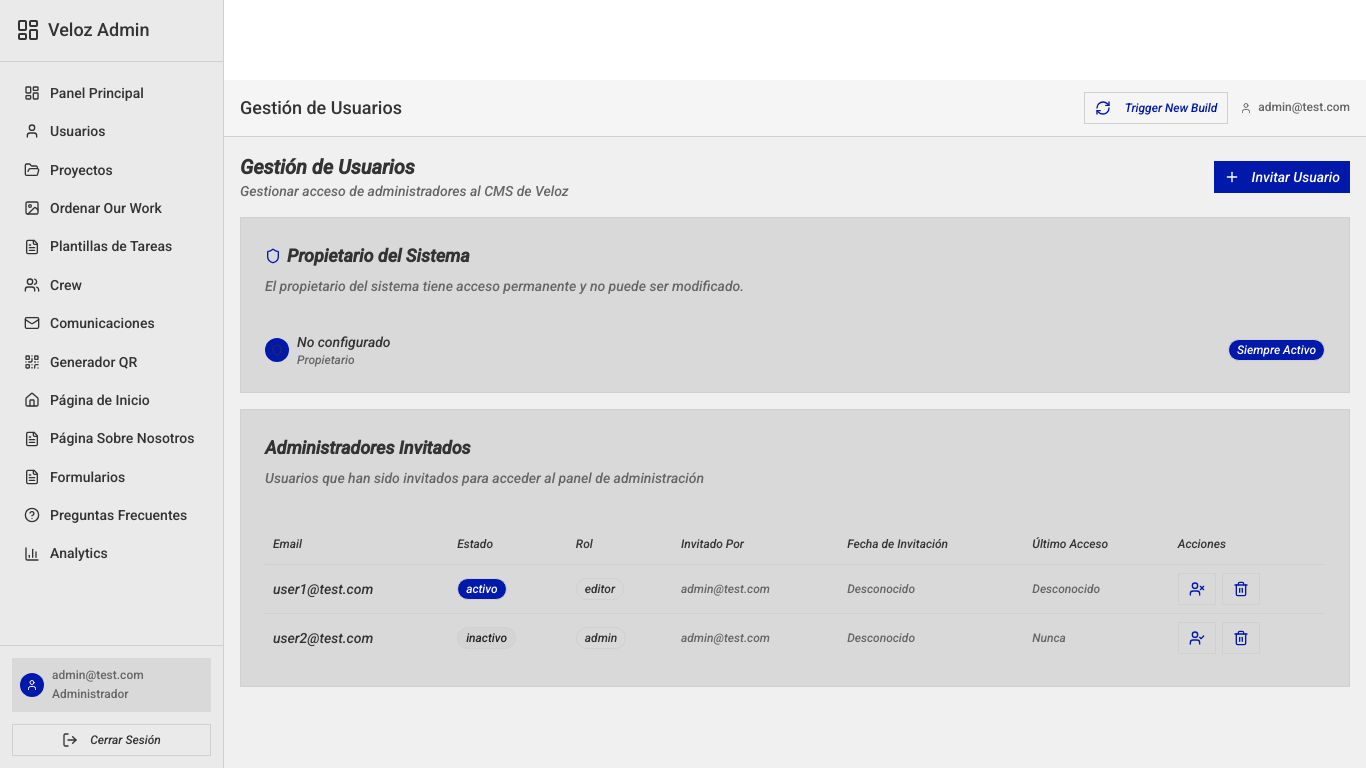
Scenario: UsersPage › User Invitation › should open invite dialog when button is clicked
Click the button "Invitar Usuario" at (1282, 177), box [1214,161,1350,193]
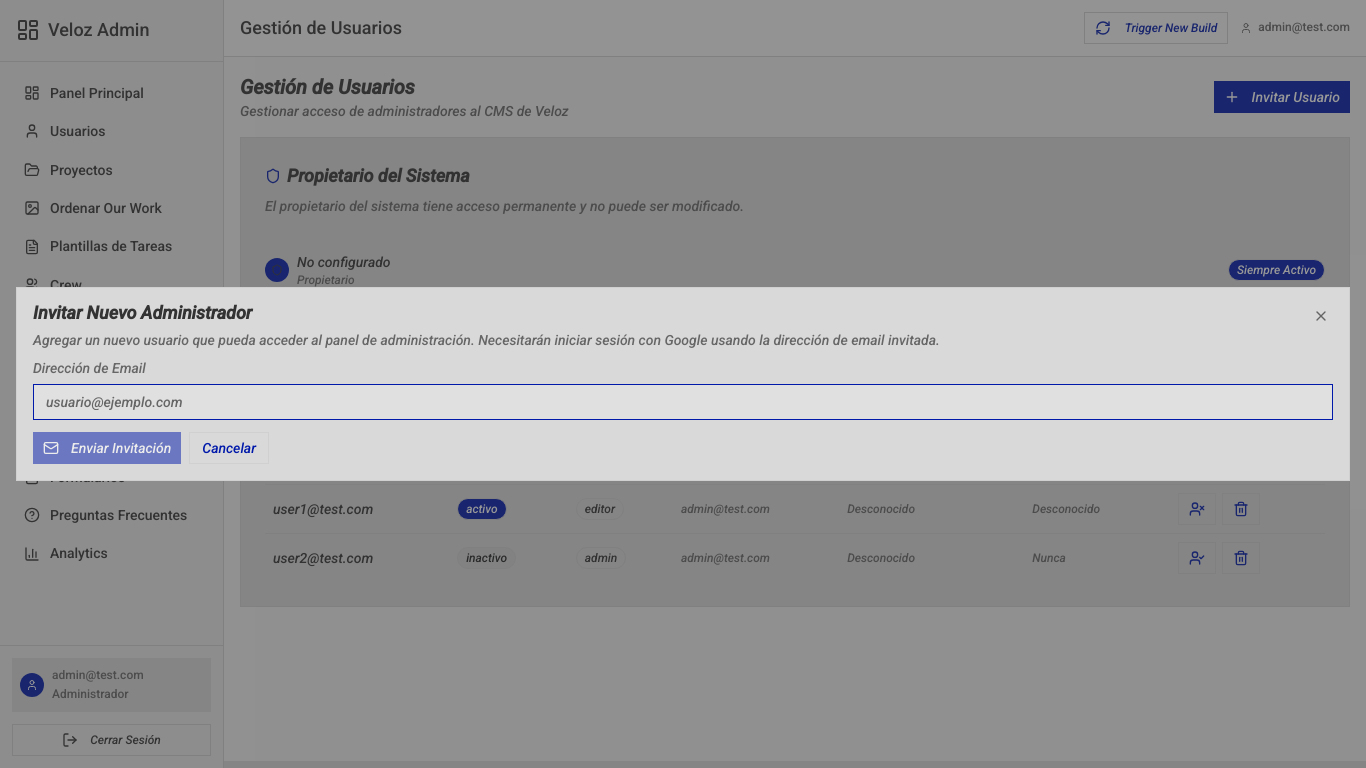
Expected: the heading "Invitar Nuevo Administrador" is shown, [33,302,252,323]
Expected: the field labelled "Dirección de Email" is shown, [33,384,1333,420]
